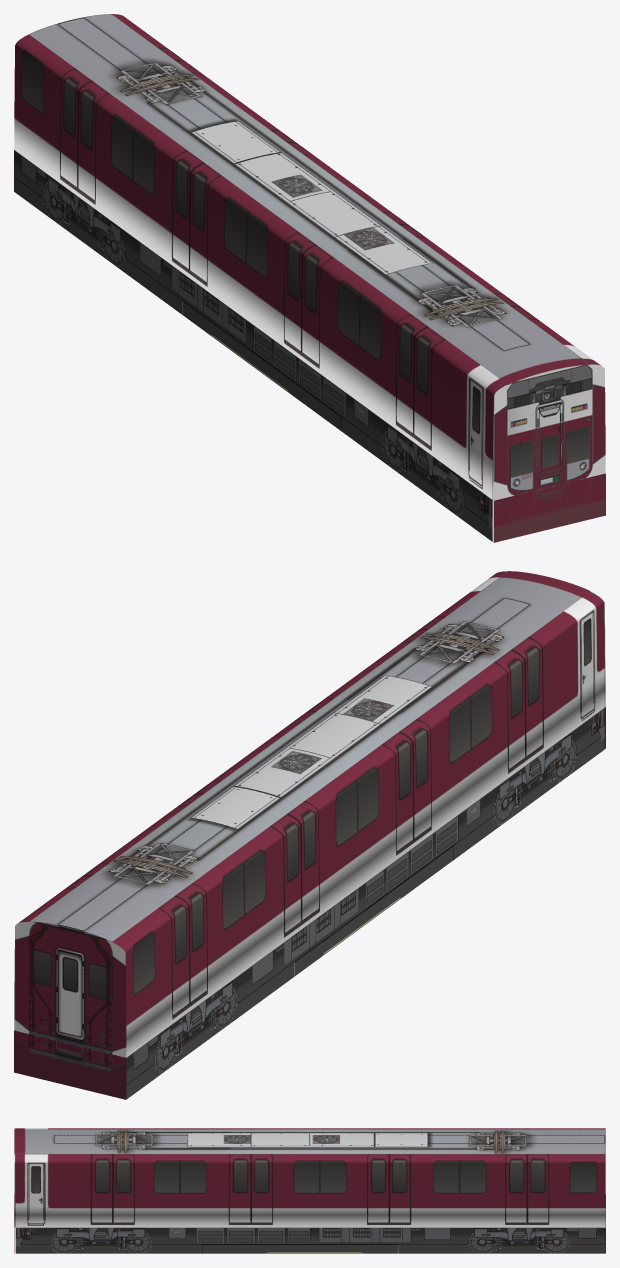
File: car1.glb
3 views of the same model, one above another, from view 1: azimuth 30°, elevation 25°; view 2: azimuth 150°, elevation 25°; view 3: azimuth 270°, elevation 25° (orthographic). The views are drawn at different scales.
Parts seen in each view (by area): view 1: kintetsu-1220-car1; view 2: kintetsu-1220-car1; view 3: kintetsu-1220-car1.
Boxes of the visible parts, x1,y1,x2,y2 form: kintetsu-1220-car1: (14,14,605,542); kintetsu-1220-car1: (14,571,605,1099); kintetsu-1220-car1: (14,1128,605,1253).
Size of the model in its own units: 2.8 by 3.77 by 20.75.
Materials: 8 (7 with a texture image).
